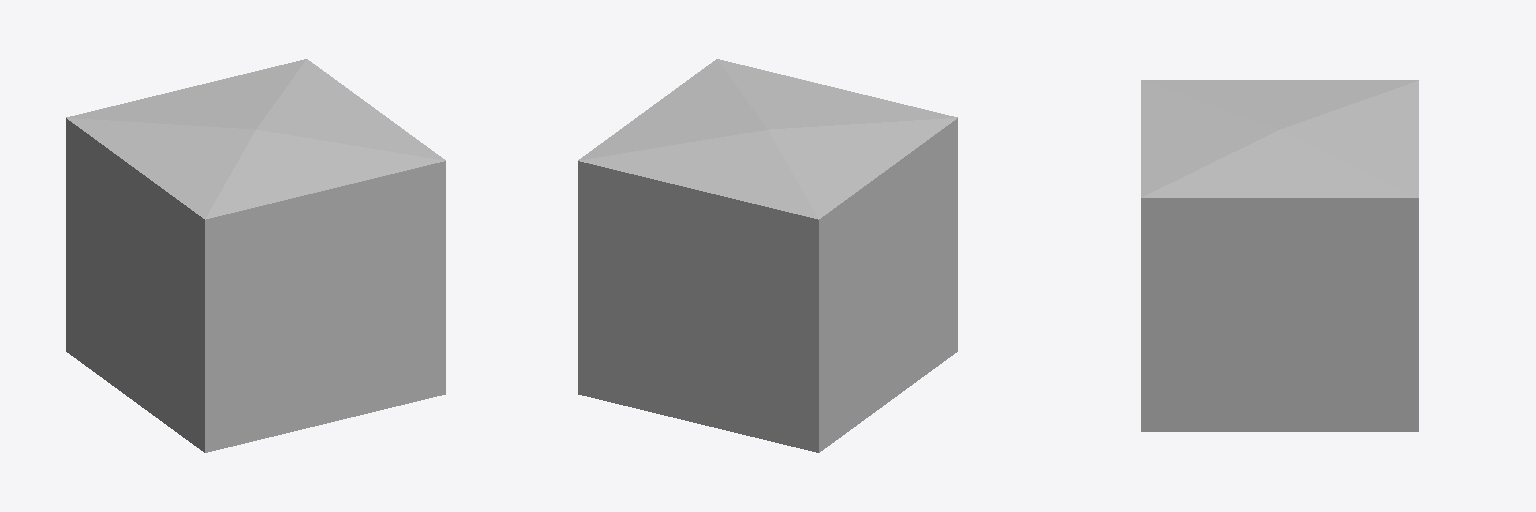
The model's file is sphereCub.obj.
3 renders of one model, left to right at view 1: azimuth 30°, elevation 25°; view 2: azimuth 150°, elevation 25°; view 3: azimuth 270°, elevation 25°, orthographic.
Parts seen in each view (by area): view 1: sphere.001; view 2: sphere.001; view 3: sphere.001.
Boxes of the visible parts, x1=… form: sphere.001: x1=66, y1=59, x2=445, y2=452; sphere.001: x1=578, y1=59, x2=957, y2=452; sphere.001: x1=1141, y1=80, x2=1418, y2=431.
Size of the model in its own units: 2 by 2 by 2.